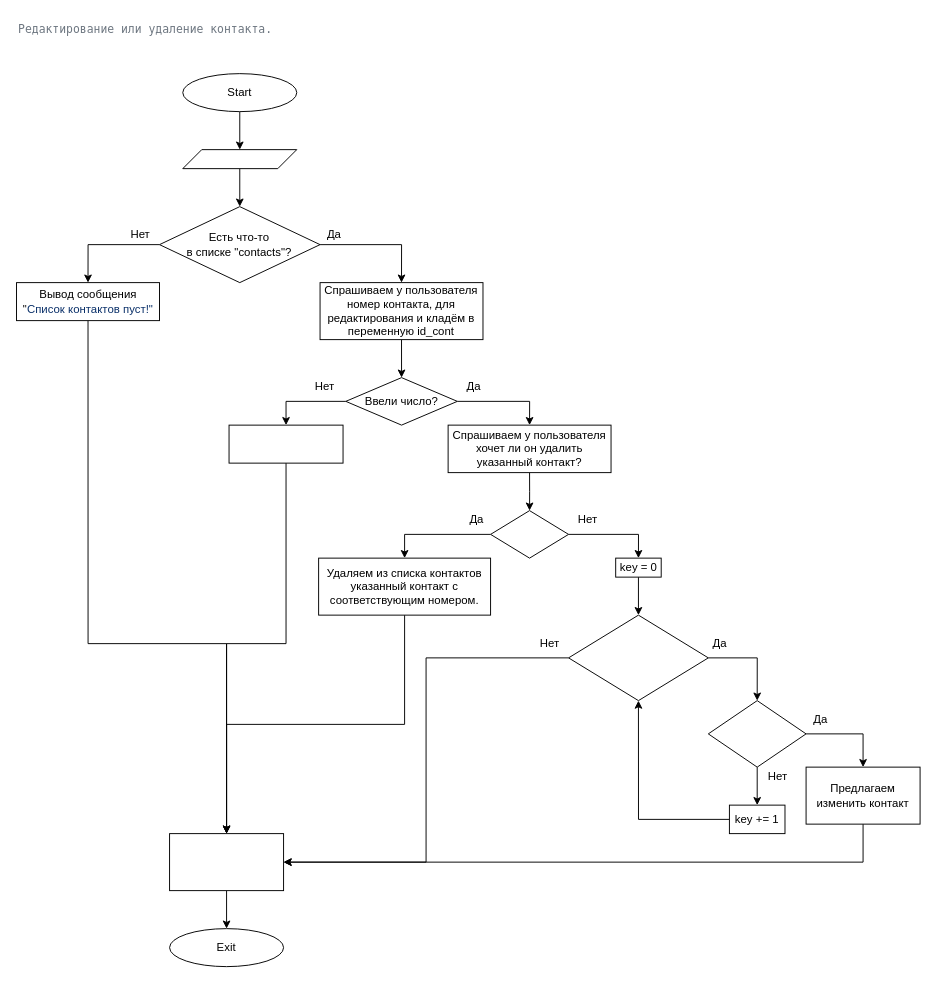
Some shapes in this 938 by 983 pixel diagram are drawn without their labels. Each missing label, with the centre of its shape:
contacts=list(): [239,159]
id_cont == key?: [756,733]
key < длины списка "contacts"?: [638,657]
Ввёл "y"?: [529,534]
Вернуть список "Contacts": [226,862]
Вывод сообщения "Ошибка ввода": [285,443]
